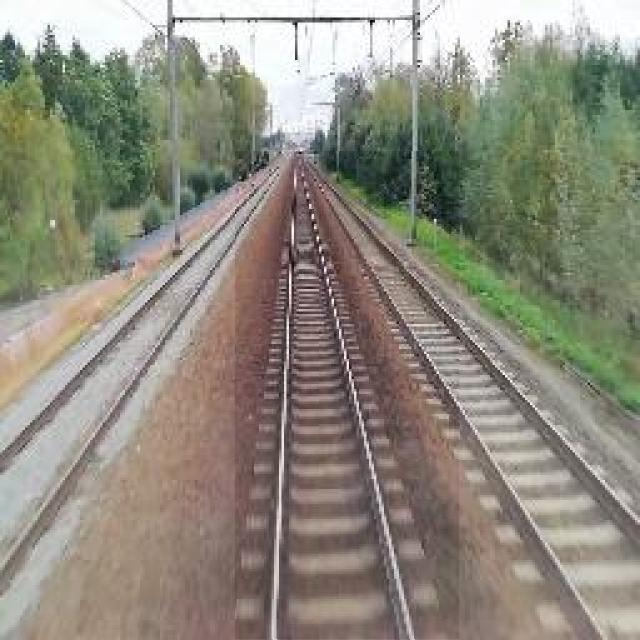rail: (236, 153, 460, 640)
